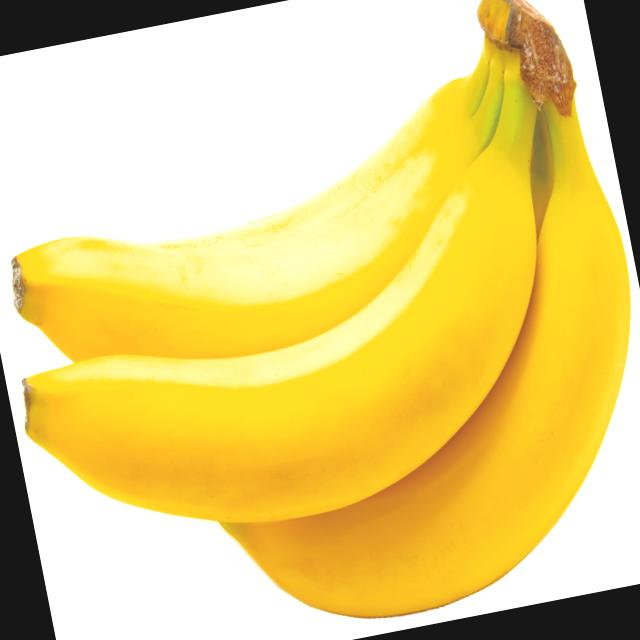Fresh_Banana: (0, 58, 640, 620)
